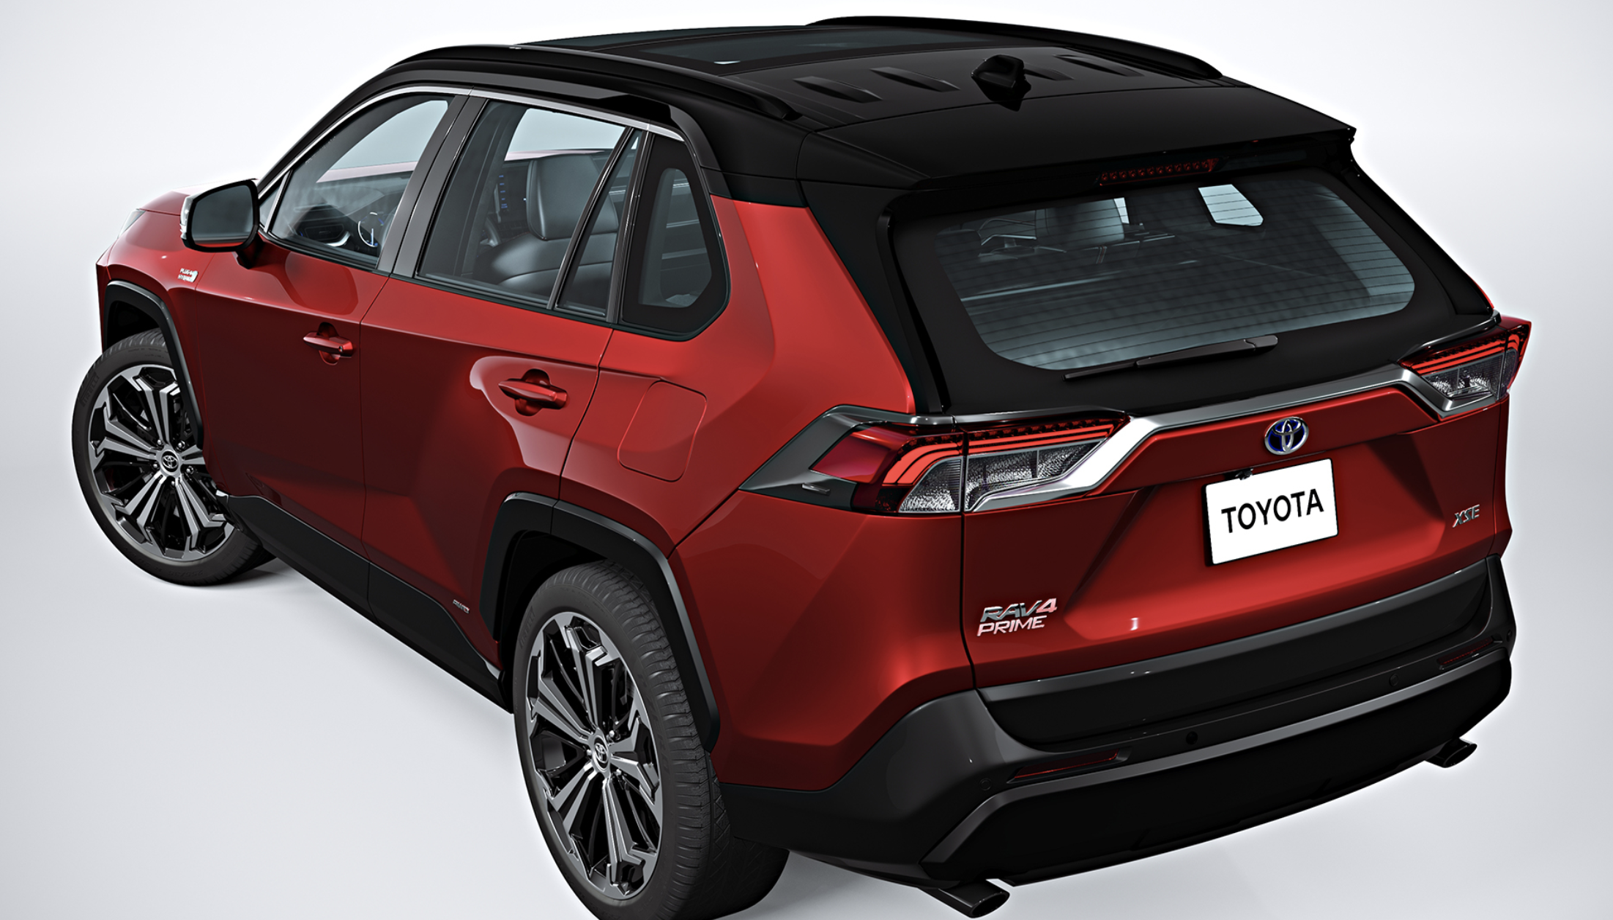hatch: (612, 374, 716, 487)
